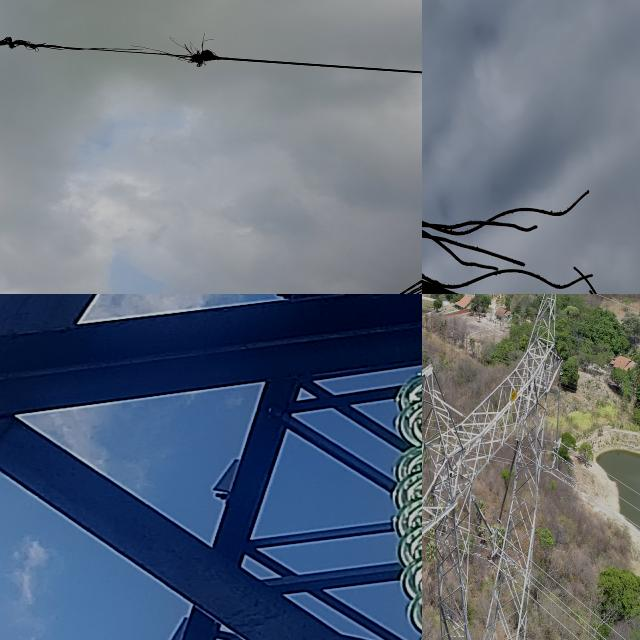杆塔: (422, 294, 578, 640)
正常绝缘子: (496, 436, 522, 526), (469, 492, 498, 545), (555, 371, 564, 444)
电缆破损: (422, 163, 640, 294), (0, 19, 223, 71)
